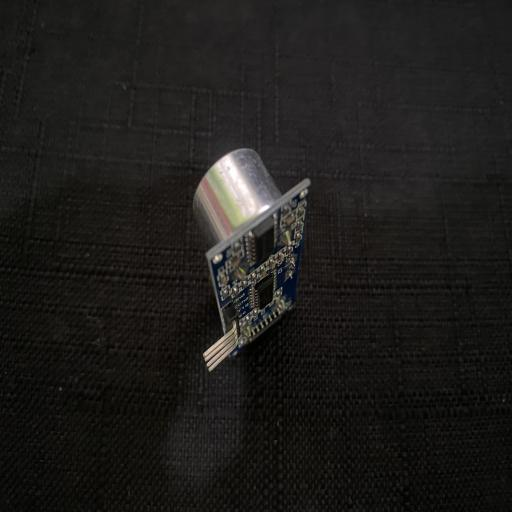Ultrasonic Sensor: (191, 146, 310, 375)
